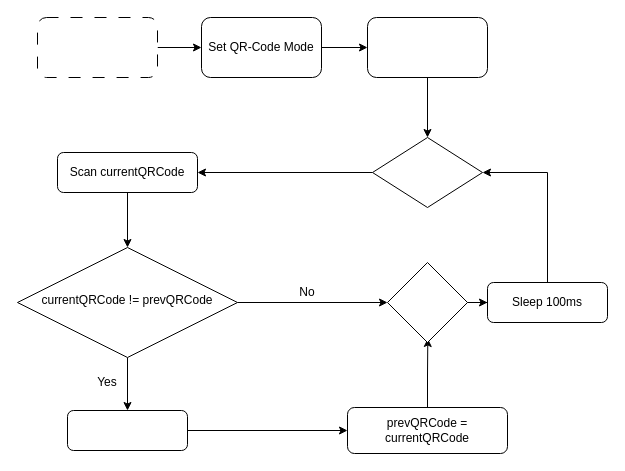
Some shapes in this 625 by 471 pixel diagram are drawn without their labels. Each missing label, with the centre of its shape:
"Publish MQTT Status Message" belongs at point (127, 430).
"Set QR-Code Trigger to AUTO" belongs at point (427, 47).
"Set vars to None" belongs at point (97, 47).
